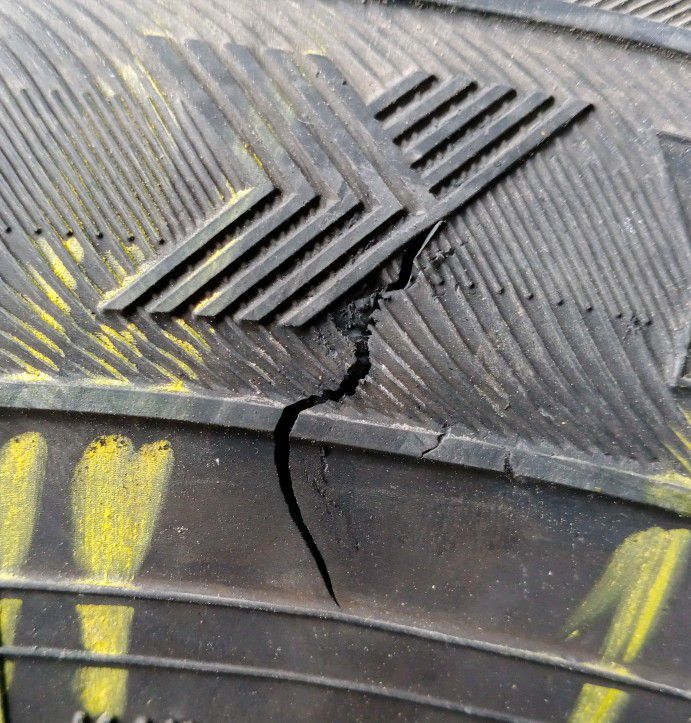cut: (266, 212, 450, 620)
